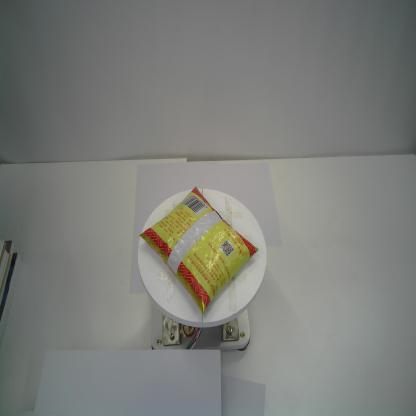Seasoner: (139, 186, 259, 316)
